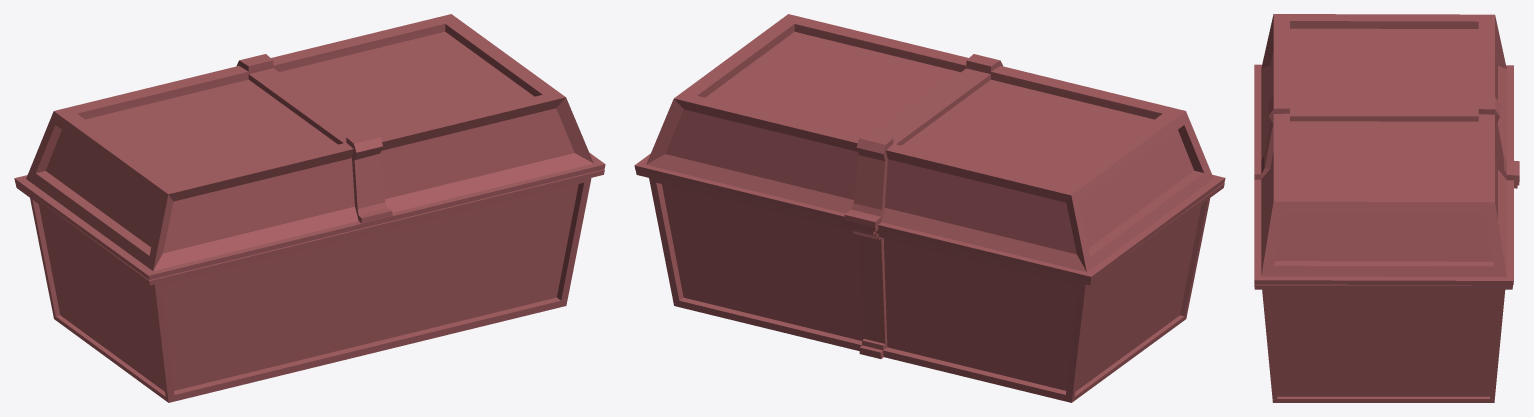
Rendered from Chest_closed.fbx.
The picture shows the model from 3 angles, left to right: view 1: azimuth 30°, elevation 25°; view 2: azimuth 150°, elevation 25°; view 3: azimuth 270°, elevation 25°; orthographic projection. The views are drawn at different scales.
Visible parts, largest first — view 1: Chest_stone_open.001; view 2: Chest_stone_open.001; view 3: Chest_stone_open.001.
Boxes of the visible parts, box(x1,y1,x2,y2) form: Chest_stone_open.001: box(14, 14, 605, 402); Chest_stone_open.001: box(634, 14, 1225, 402); Chest_stone_open.001: box(1254, 14, 1519, 402).
Bounding box in the file's own units: 88.28 × 39.53 × 45.94.
